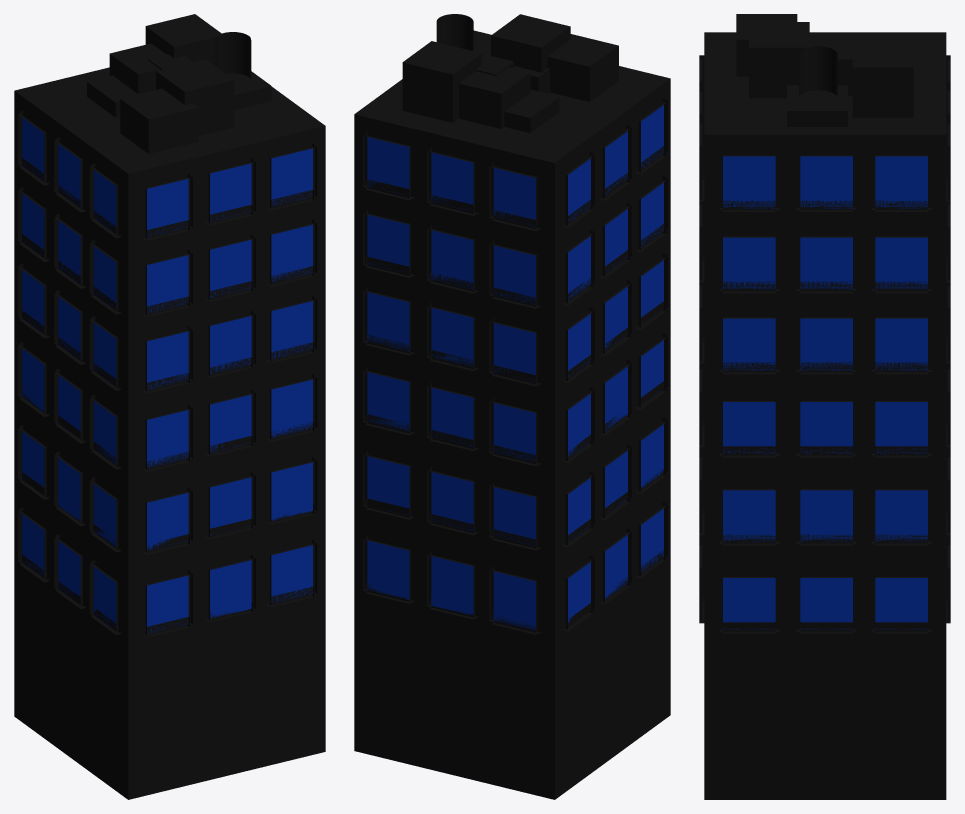
The model's file is Building2.obj.
3 views of the same model, side by side, from view 1: azimuth 30°, elevation 25°; view 2: azimuth 150°, elevation 25°; view 3: azimuth 270°, elevation 25° (orthographic). The views are drawn at different scales.
Parts seen in each view (by area): view 1: Cube_Cube.001; view 2: Cube_Cube.001; view 3: Cube_Cube.001.
Part boxes in pixels (x1,y1,x2,y2): Cube_Cube.001: (14, 14, 325, 799); Cube_Cube.001: (354, 14, 670, 799); Cube_Cube.001: (699, 14, 950, 799).
Size of the model in its own units: 2.11 by 6.61 by 2.07.
